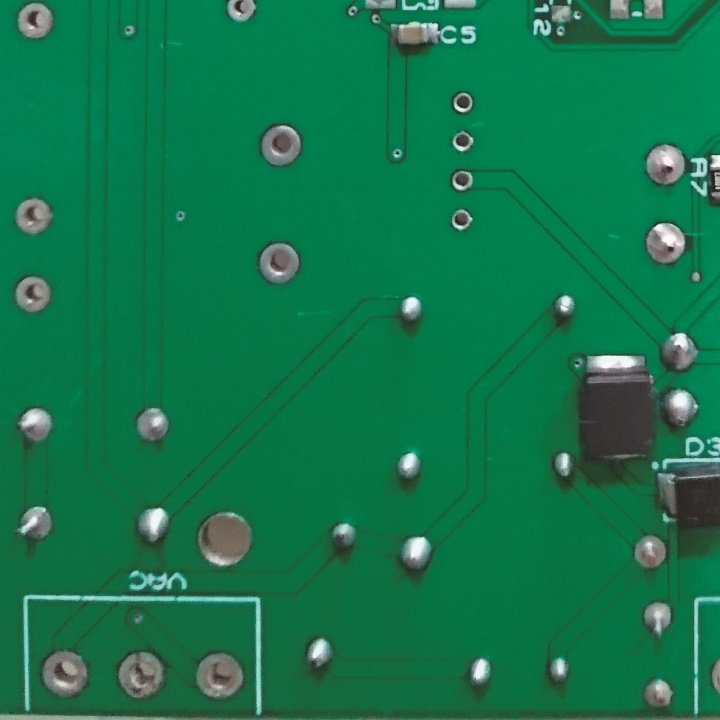F: (193, 649, 247, 703), (115, 648, 168, 703), (39, 649, 91, 699), (256, 121, 306, 169), (644, 139, 690, 189), (256, 237, 301, 287), (644, 219, 687, 271), (11, 272, 56, 313), (13, 195, 55, 237), (16, 2, 59, 43), (16, 403, 54, 449), (14, 503, 56, 543), (631, 532, 671, 574), (641, 597, 677, 638), (133, 406, 171, 444), (639, 675, 678, 710), (221, 1, 262, 29), (450, 86, 473, 116), (450, 206, 474, 232), (448, 170, 474, 193), (450, 130, 473, 154)
